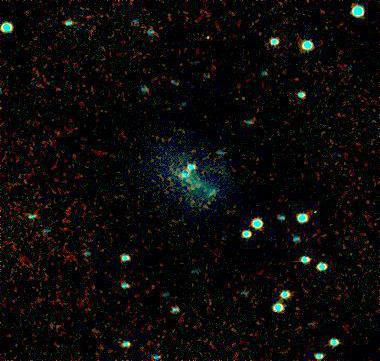star: (193, 23, 223, 53)
